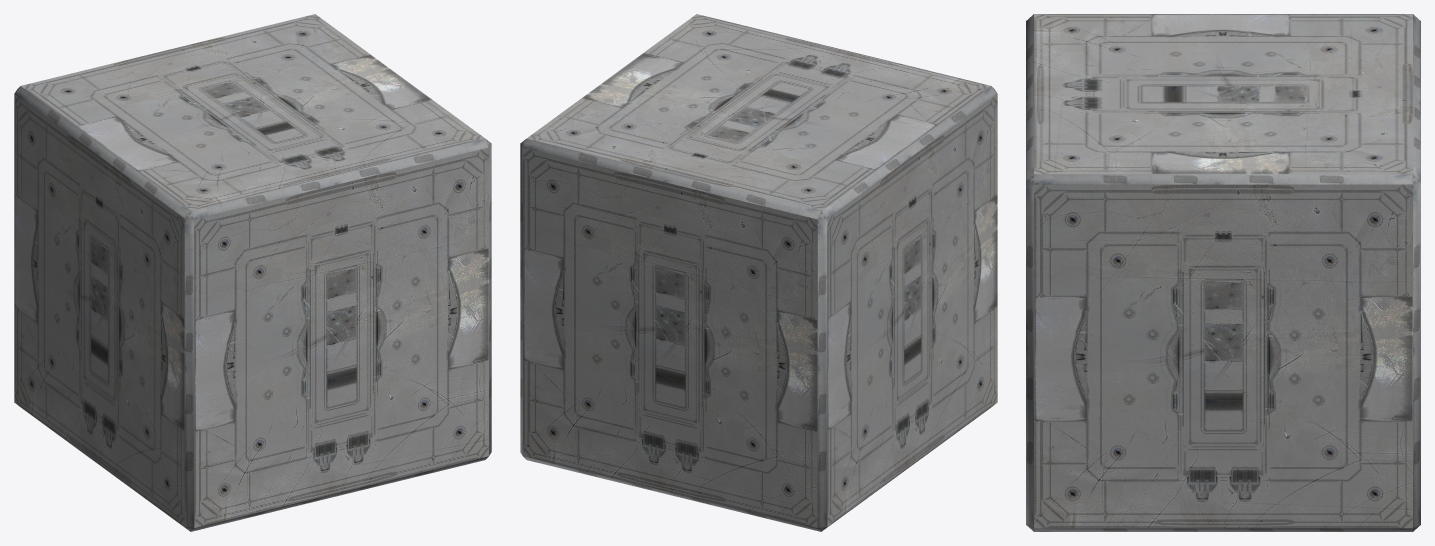
The model's file is SM_Crate6.fbx.
The picture shows the model from 3 angles, left to right: view 1: azimuth 30°, elevation 25°; view 2: azimuth 150°, elevation 25°; view 3: azimuth 270°, elevation 25°; orthographic projection. The views are drawn at different scales.
Visible parts, largest first — view 1: SM_Crate6_LOD0; view 2: SM_Crate6_LOD0; view 3: SM_Crate6_LOD0.
Part boxes in pixels (left/top/right/bottom): SM_Crate6_LOD0: left=14, top=14, right=491, bottom=531; SM_Crate6_LOD0: left=520, top=14, right=997, bottom=531; SM_Crate6_LOD0: left=1026, top=14, right=1420, bottom=531.
Size of the model in its own units: 100 by 100 by 100.
2 materials, 2 textured.
